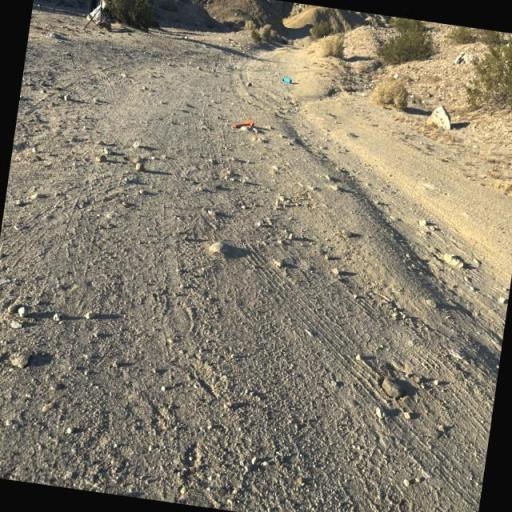bottle: (280, 73, 296, 87)
mallet: (232, 111, 258, 137)
